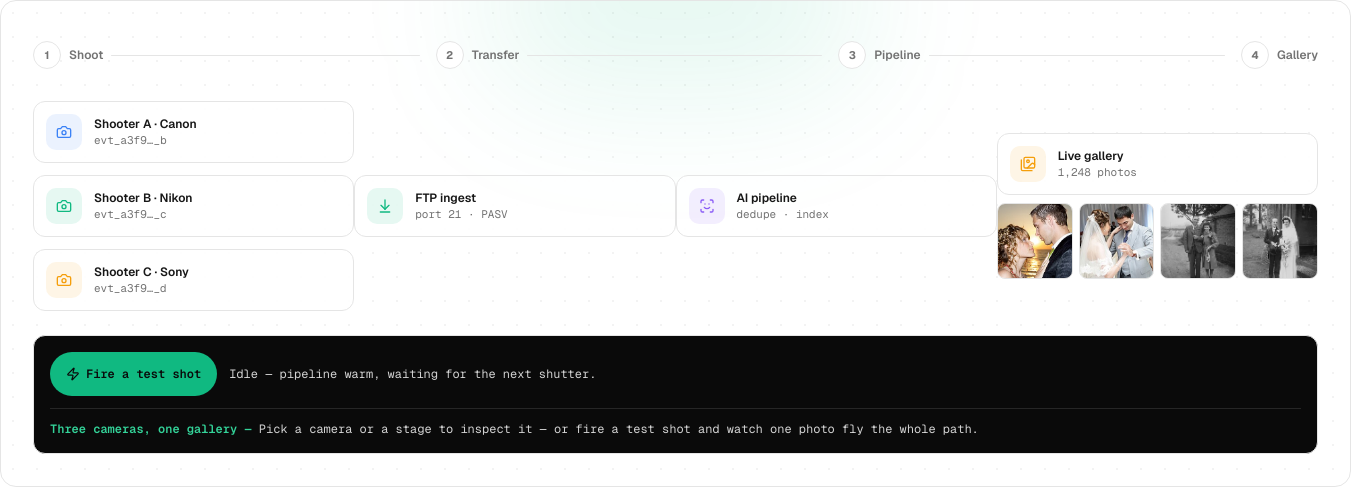
Test case: CameraCloudFlow › stepper pills select stages by step
This screenshot has width=1366, height=504.
Step 1. Click the button with aria-label "Step 3: Pipeline" → click(879, 55), box 838,33 -> 921,77
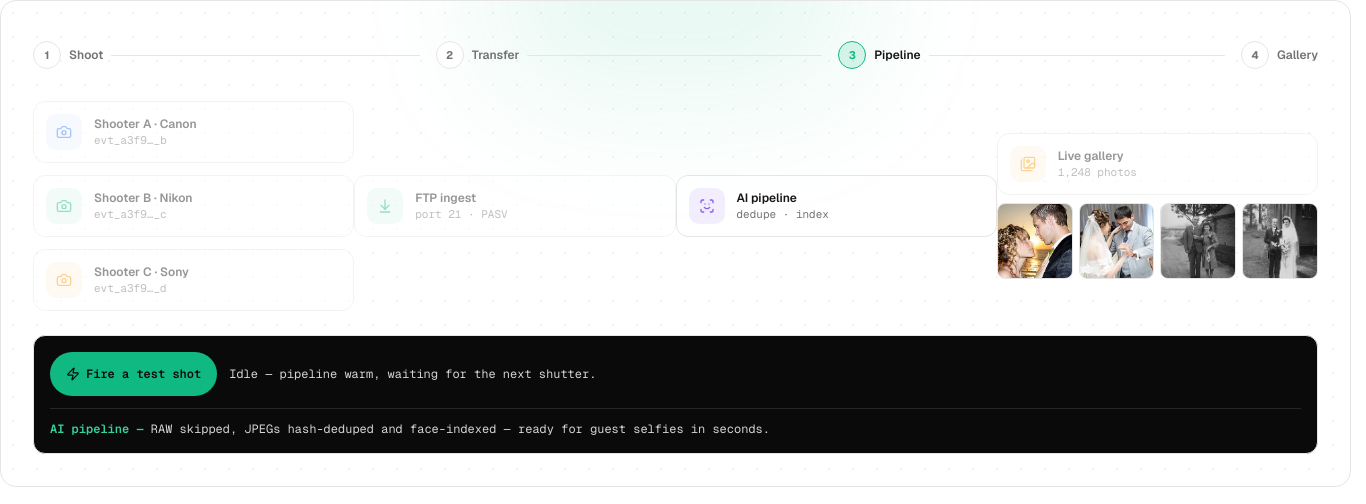
Check: the text with test id "flow-detail" shows "face-indexed", box 151,421 -> 770,437
